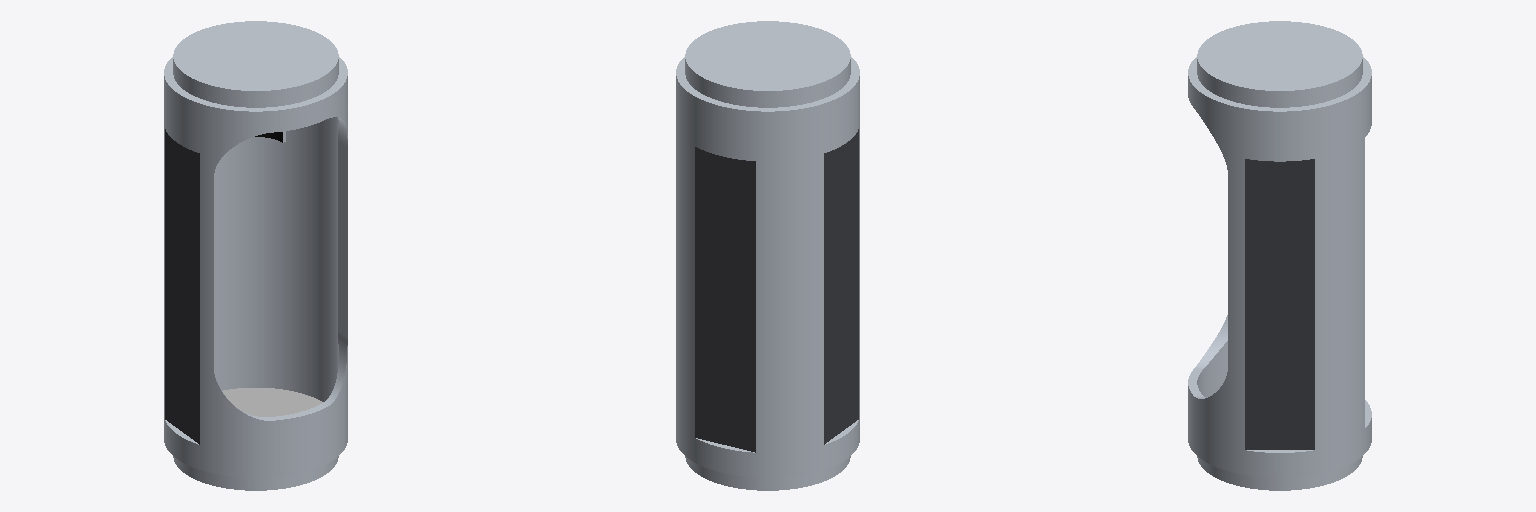
File: cryo.obj
The picture shows the model from 3 angles: view 1: azimuth 30°, elevation 25°; view 2: azimuth 150°, elevation 25°; view 3: azimuth 270°, elevation 25°; orthographic projection.
Parts seen in each view (by area): view 1: cryo_g_32244-Metal_Aluminum_Anodized, cryo_g_32244-Blinds_Roman_Hobbled_Blue, cryo_g_32244-Metal_Corrogated_Shiny; view 2: cryo_g_32244-Metal_Aluminum_Anodized, cryo_g_32244-Blinds_Roman_Hobbled_Blue; view 3: cryo_g_32244-Metal_Aluminum_Anodized, cryo_g_32244-Blinds_Roman_Hobbled_Blue.
Part boxes in pixels (x1,y1,x2,y2): cryo_g_32244-Metal_Aluminum_Anodized: (164, 21, 347, 490); cryo_g_32244-Blinds_Roman_Hobbled_Blue: (165, 129, 199, 444); cryo_g_32244-Metal_Corrogated_Shiny: (222, 388, 323, 416); cryo_g_32244-Metal_Aluminum_Anodized: (676, 21, 859, 490); cryo_g_32244-Blinds_Roman_Hobbled_Blue: (695, 129, 858, 452); cryo_g_32244-Metal_Aluminum_Anodized: (1188, 21, 1371, 490); cryo_g_32244-Blinds_Roman_Hobbled_Blue: (1245, 159, 1314, 449).
Bounding box in the file's own units: 1 × 2.4 × 0.9999.